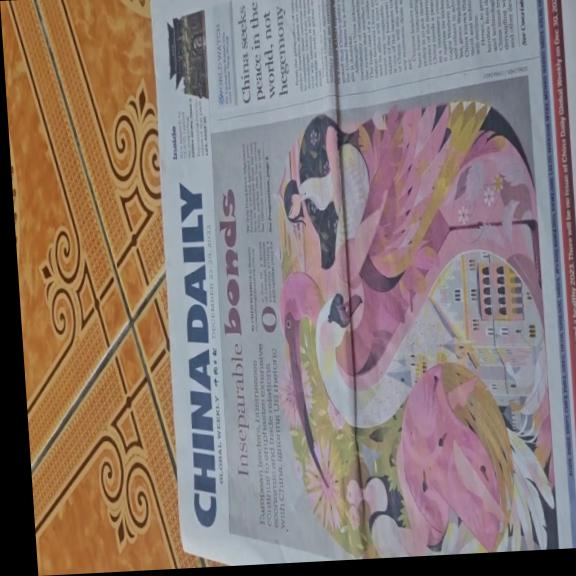Kertas: (144, 0, 576, 566)
